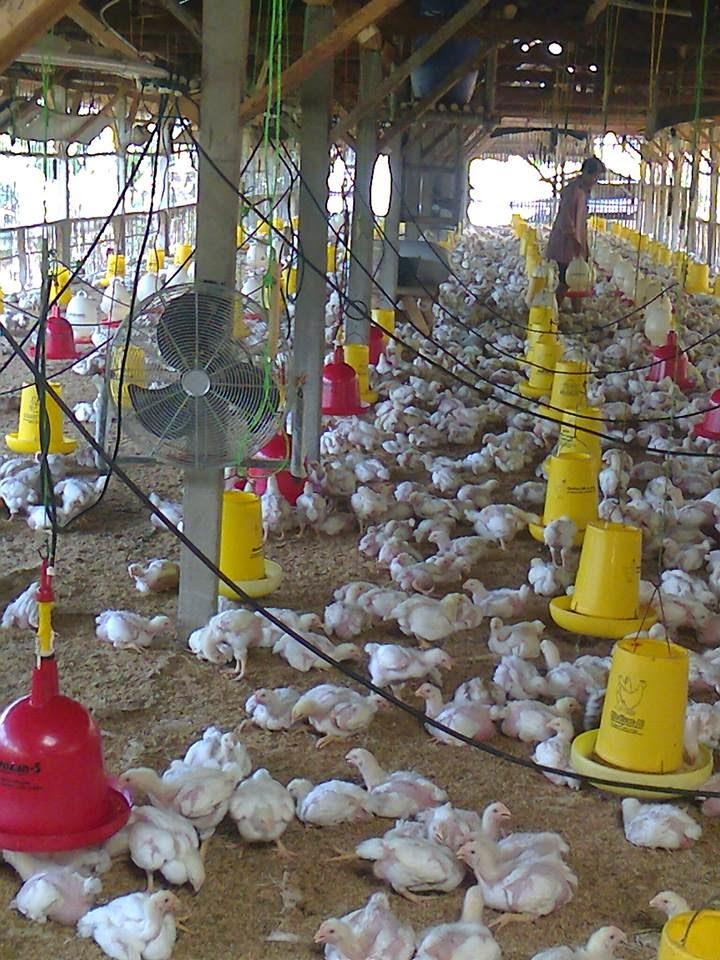chicken: (119, 766, 239, 834), (456, 838, 569, 905), (348, 742, 445, 817), (126, 798, 204, 887), (316, 894, 411, 960), (234, 768, 298, 860), (93, 892, 180, 959), (370, 821, 455, 887), (411, 801, 520, 846), (294, 684, 381, 739), (620, 796, 704, 851), (416, 685, 490, 739), (205, 610, 262, 673), (92, 609, 173, 653), (277, 632, 365, 669), (365, 647, 453, 682), (291, 776, 364, 818), (469, 498, 534, 539), (463, 577, 527, 615), (487, 618, 541, 659), (251, 685, 296, 729), (127, 557, 179, 595)
